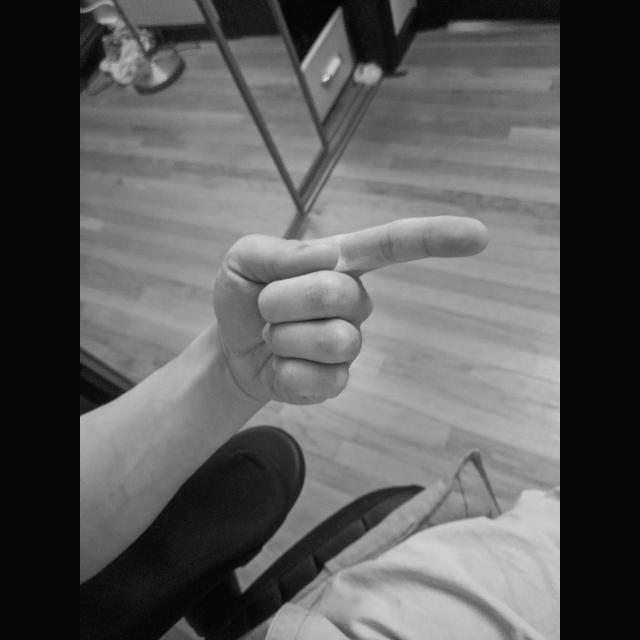G: (211, 210, 499, 410)
